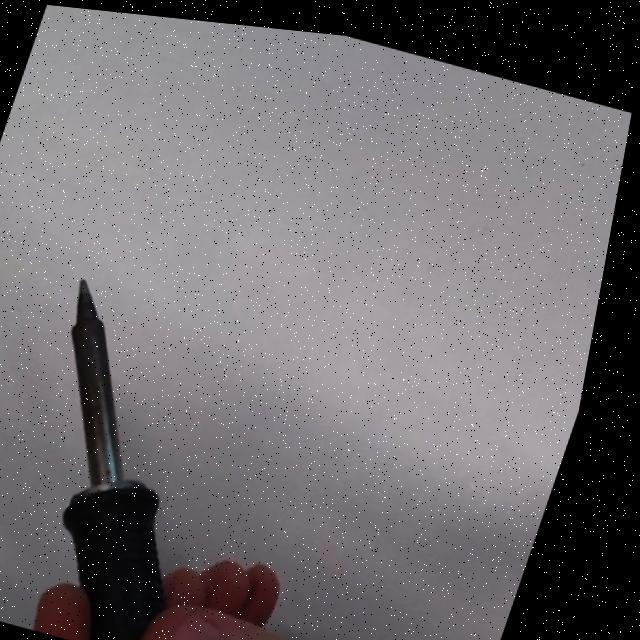soldering_iron: (0, 272, 262, 640)
